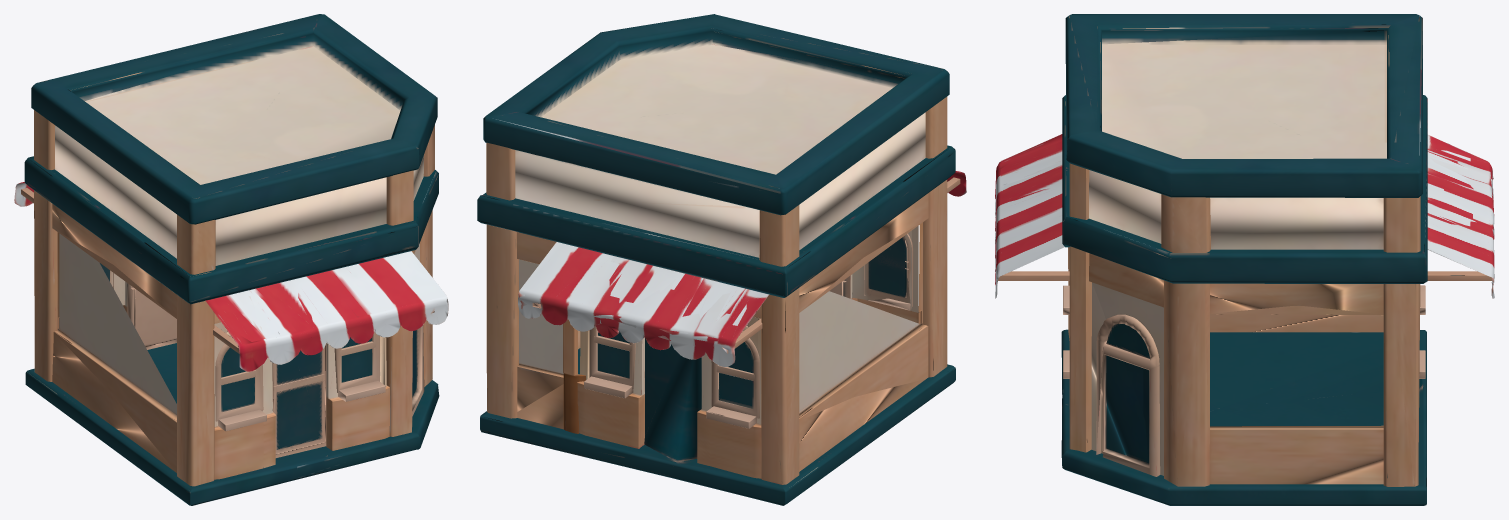
Rendered from 09-corner-shop.glb.
3 renders of one model, left to right at view 1: azimuth 30°, elevation 25°; view 2: azimuth 150°, elevation 25°; view 3: azimuth 270°, elevation 25°, orthographic. The views are drawn at different scales.
Parts seen in each view (by area): view 1: geometry_0; view 2: geometry_0; view 3: geometry_0.
Boxes of the visible parts, x1,y1,x2,y2 form: geometry_0: [14, 14, 448, 505]; geometry_0: [477, 14, 966, 505]; geometry_0: [995, 14, 1494, 505].
Size of the model in its own units: 0.7261 by 0.7036 by 0.9492.
1 material, 1 textured.
